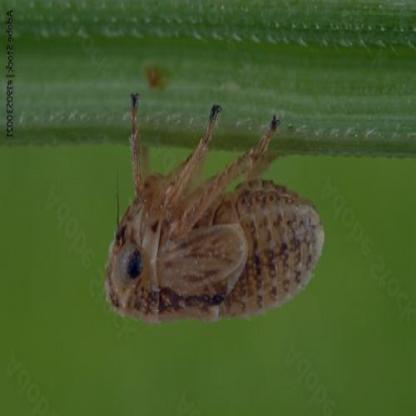brown-planthopper: (103, 106, 325, 326)
